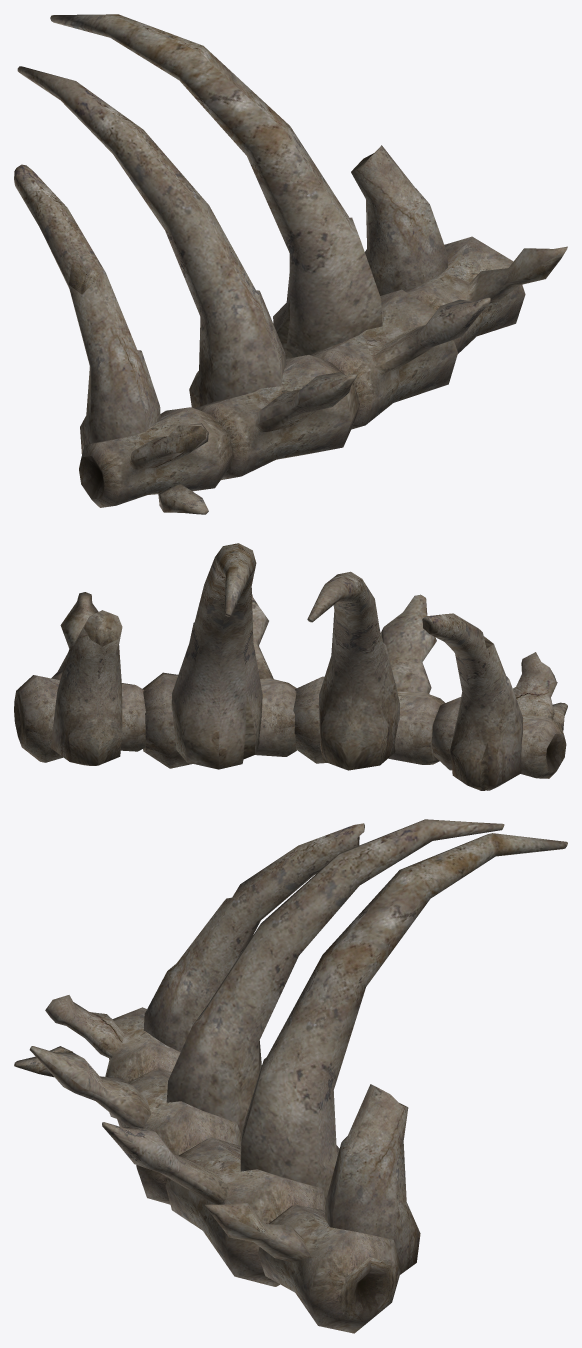
Rendered from Co_A_DinoBone02.FBX.
3 views of the same model, one above another, from view 1: azimuth 30°, elevation 25°; view 2: azimuth 150°, elevation 25°; view 3: azimuth 270°, elevation 25° (orthographic). The views are drawn at different scales.
Parts seen in each view (by area): view 1: Co_A_DinoBone02; view 2: Co_A_DinoBone02; view 3: Co_A_DinoBone02.
Part boxes in pixels (x1,y1,x2,y2): Co_A_DinoBone02: (14, 14, 567, 514); Co_A_DinoBone02: (14, 543, 567, 790); Co_A_DinoBone02: (14, 819, 567, 1333).
Size of the model in its own units: 1562 by 1003 by 1398.
